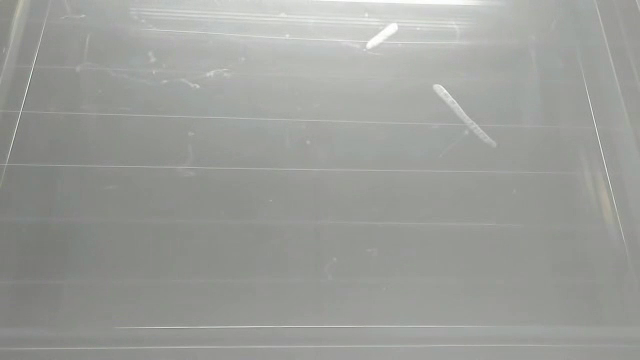alpha: (430, 80, 499, 150), (364, 19, 402, 52)
